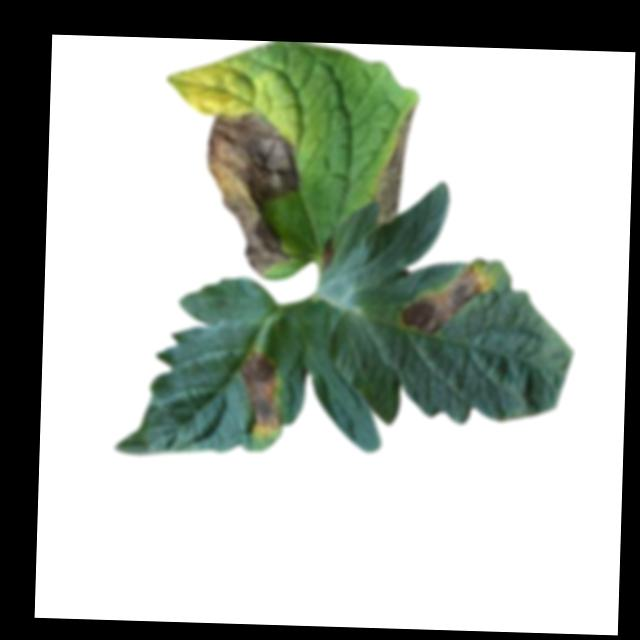Early_blight: (203, 112, 305, 276), (401, 265, 495, 337), (374, 104, 414, 227), (237, 350, 287, 435), (318, 237, 335, 272)
